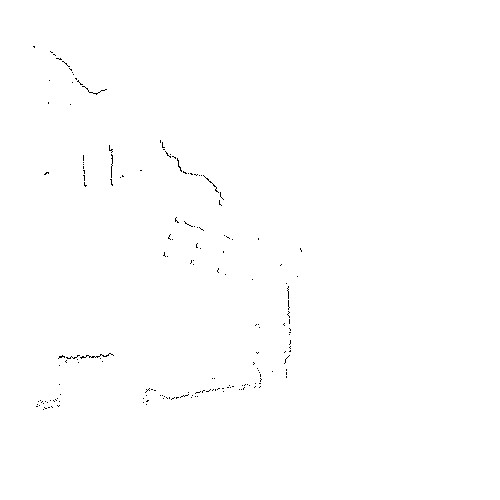pallet: (162, 219, 233, 276)
